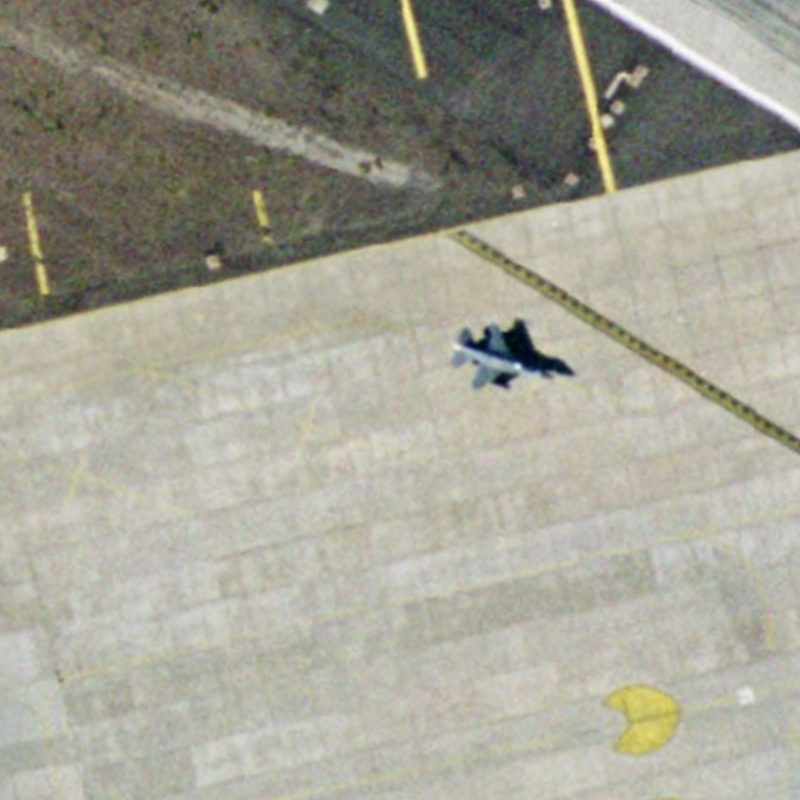A5: (443, 313, 559, 397)
